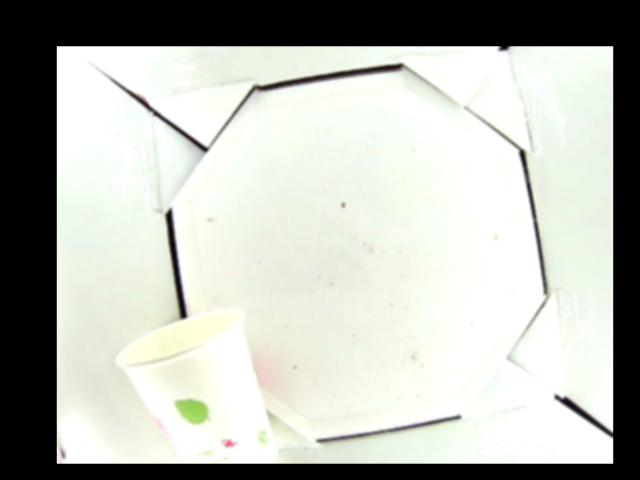Cup: (115, 308, 276, 463)
